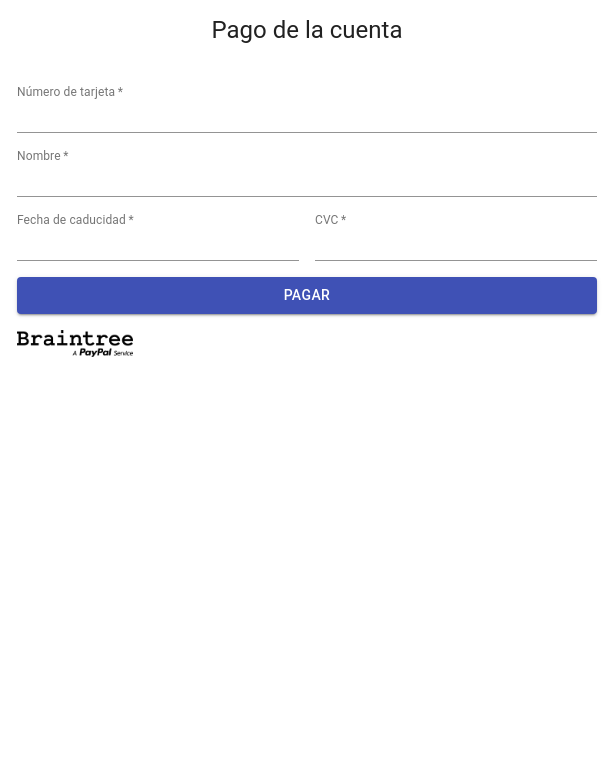
Test: BillCheckout test suite › Correct submit billCheckout
Expected: the heading "Pago de la cuenta" is shown, [212,16,402,44]
In the field labelled "Número de tarjeta *": (307, 117) [17,101,597,133], type "4242 4242 4242 4242"
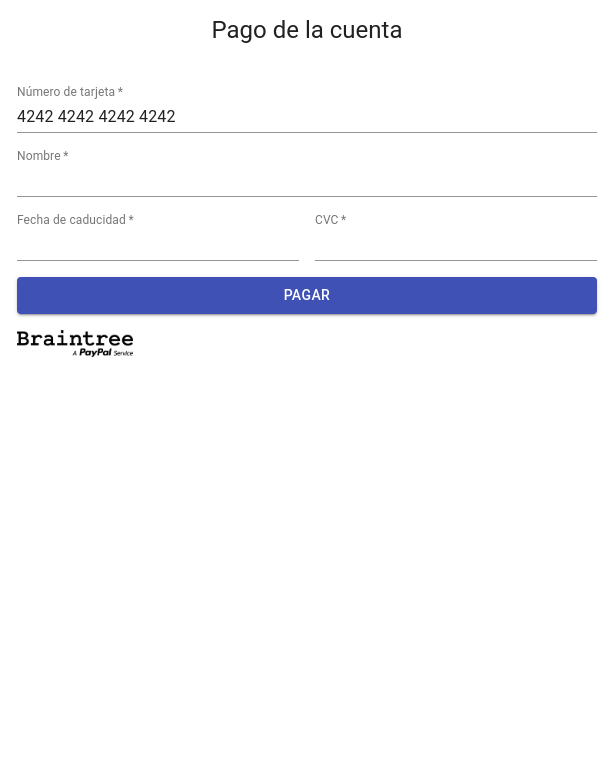
In the field labelled "Nombre *": (307, 181) [17,165,597,197], type "Visa"
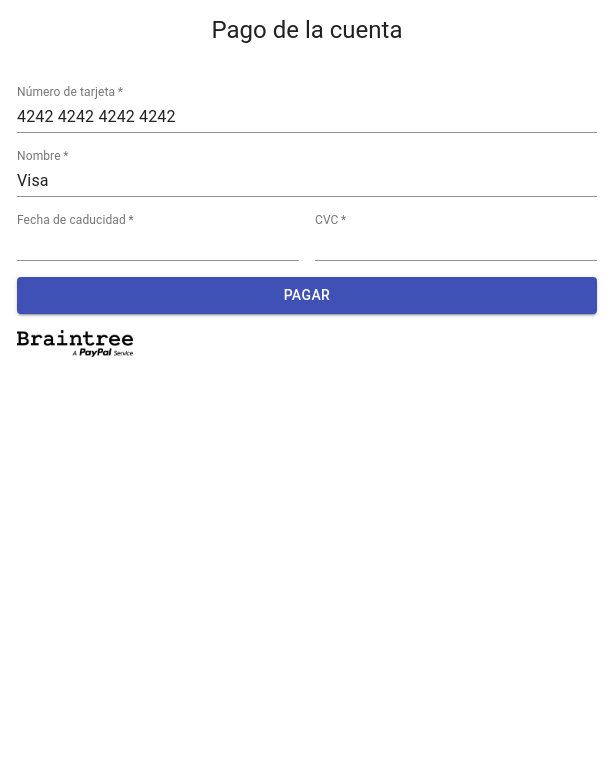
In the field labelled "Fecha de caducidad *": (158, 245) [17,229,299,261], type "04/22"
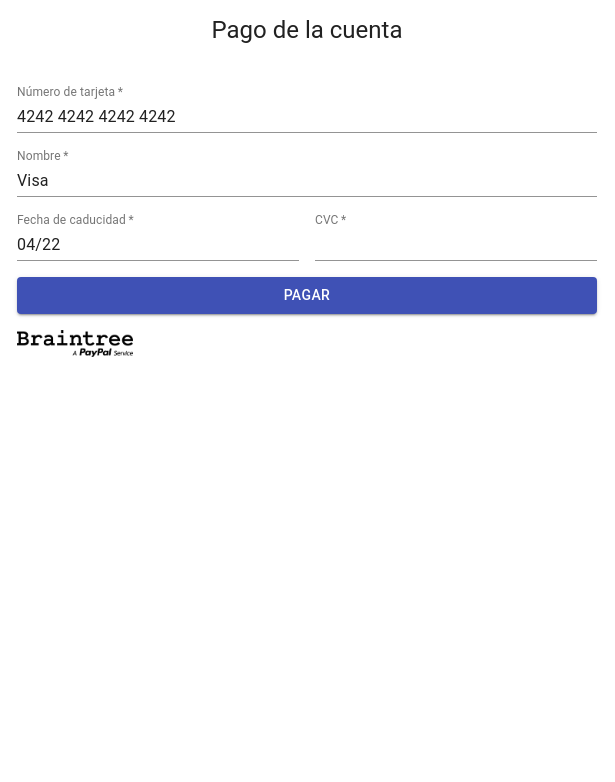
In the field labelled "CVC *": (456, 245) [315,229,597,261], type "422"
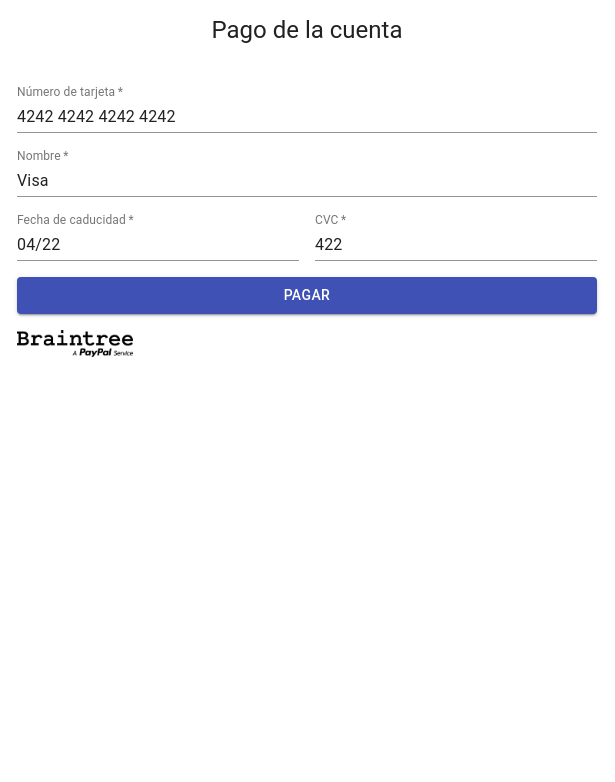
Click the button "Pagar": click(307, 296) [17,277,597,314]
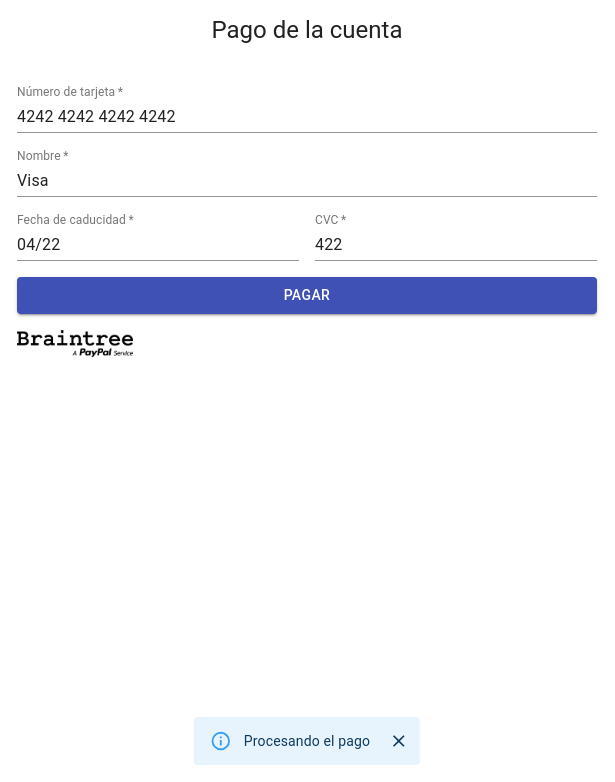
Result: the text "Procesando el pago" is shown at [244,733,370,749]
